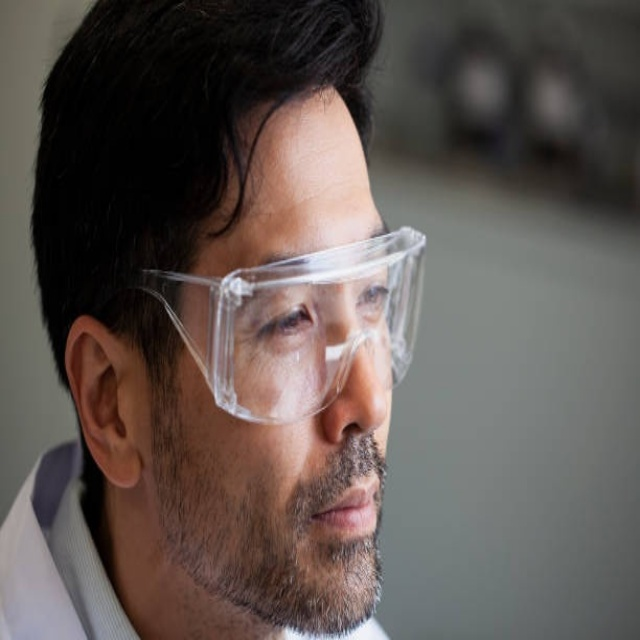Gafas: (120, 226, 429, 423)
Sin_mascara: (266, 460, 397, 620)
